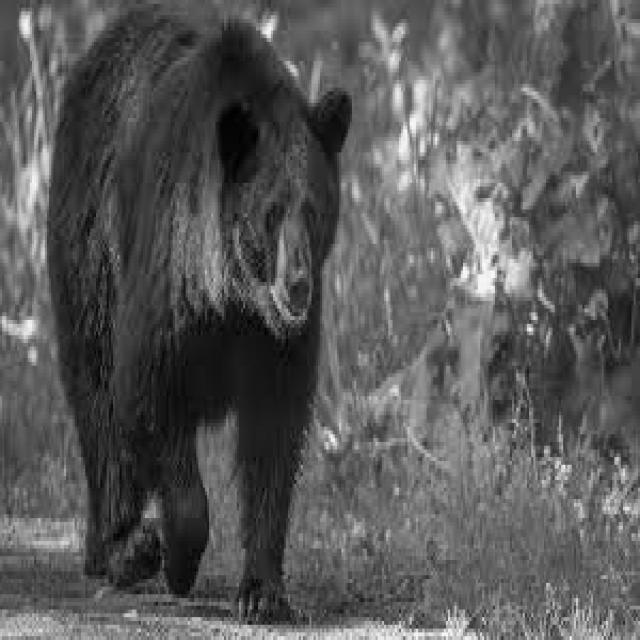Bear: (46, 9, 353, 626)
